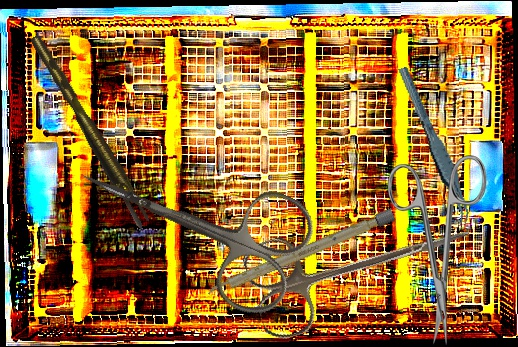Iris Scissors: (57, 116, 323, 325), (239, 180, 483, 345), (387, 155, 487, 345)
Scalpel Handle: (205, 208, 396, 299)
Tissue Forceps: (29, 28, 153, 233), (397, 61, 473, 231)
